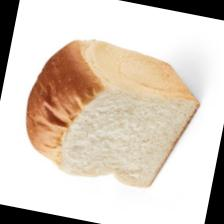bread: (15, 28, 208, 196)
